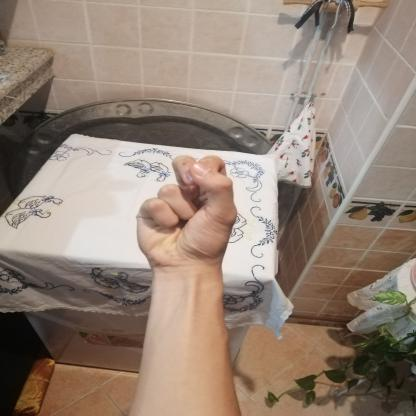QAAF: (115, 148, 253, 279)
